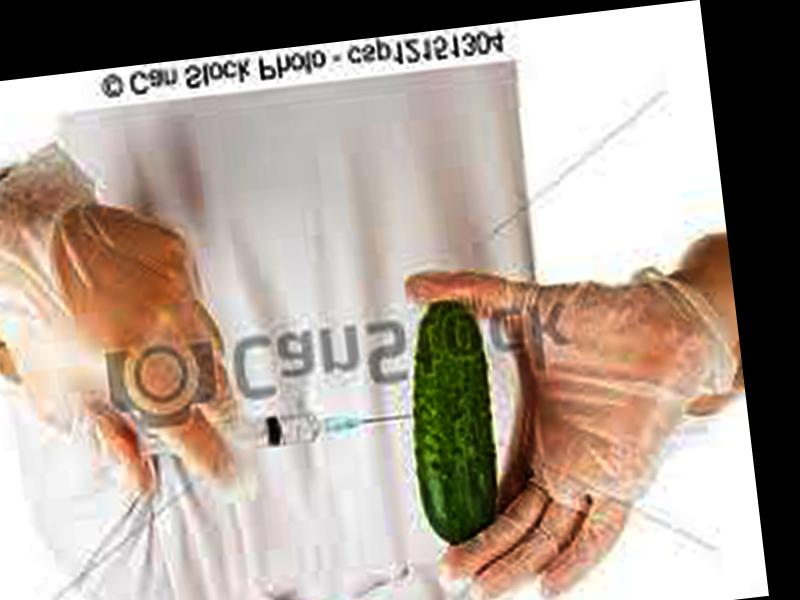Cucumber: (401, 292, 509, 547)
